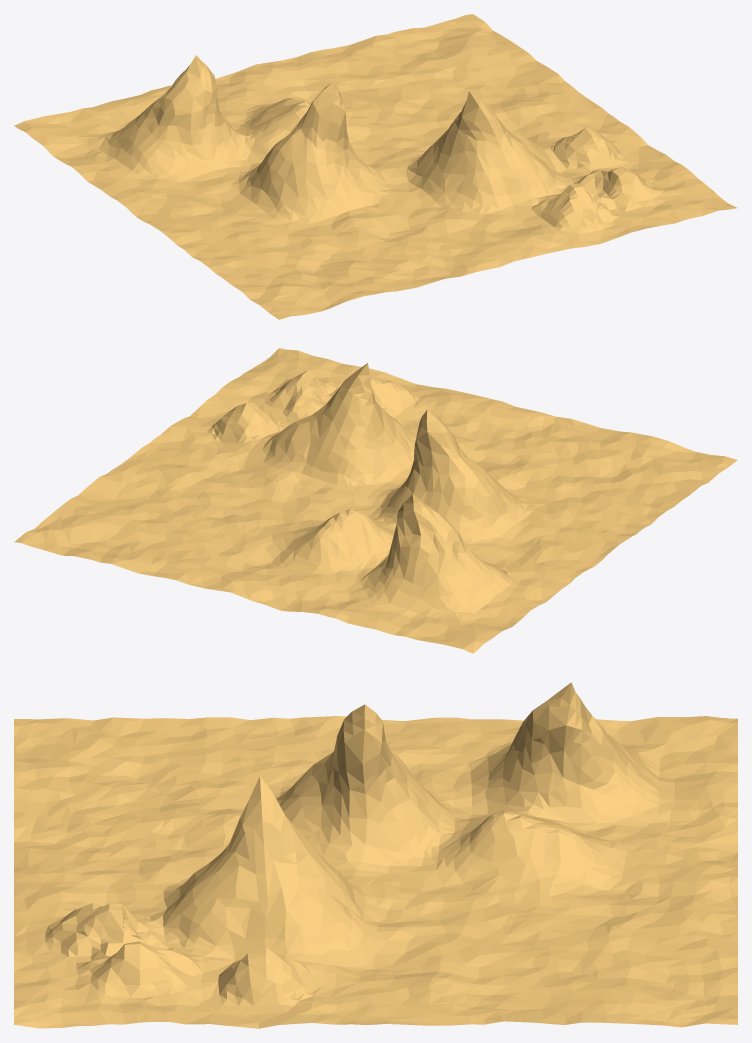
3 renders of one model, top to bottom at view 1: azimuth 30°, elevation 25°; view 2: azimuth 150°, elevation 25°; view 3: azimuth 270°, elevation 25°, orthographic. The views are drawn at different scales.
Visible parts, largest first — view 1: Plane; view 2: Plane; view 3: Plane.
Boxes of the visible parts, x1,y1,x2,y2 form: Plane: (14, 14, 737, 319); Plane: (14, 348, 737, 653); Plane: (14, 682, 737, 1028).
Bounding box in the file's own units: 1597 × 346 × 1597.
